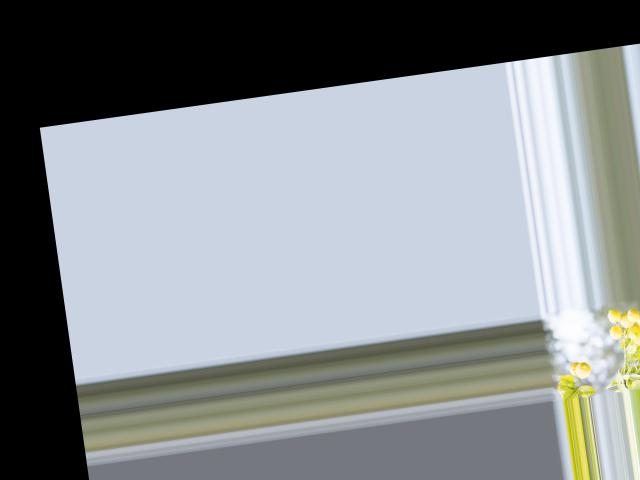lemon: (633, 306, 640, 328)
